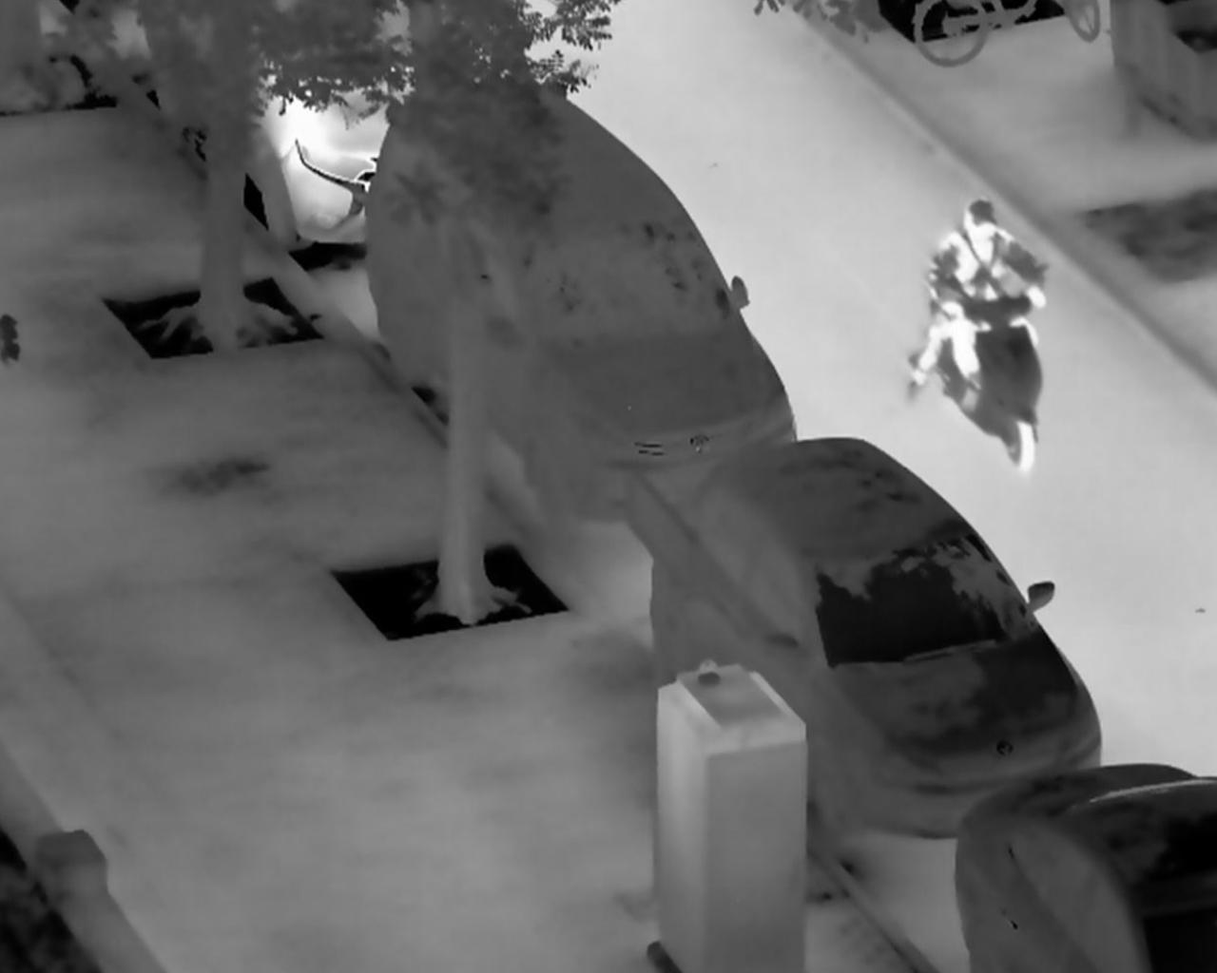person: (910, 195, 1052, 410)
